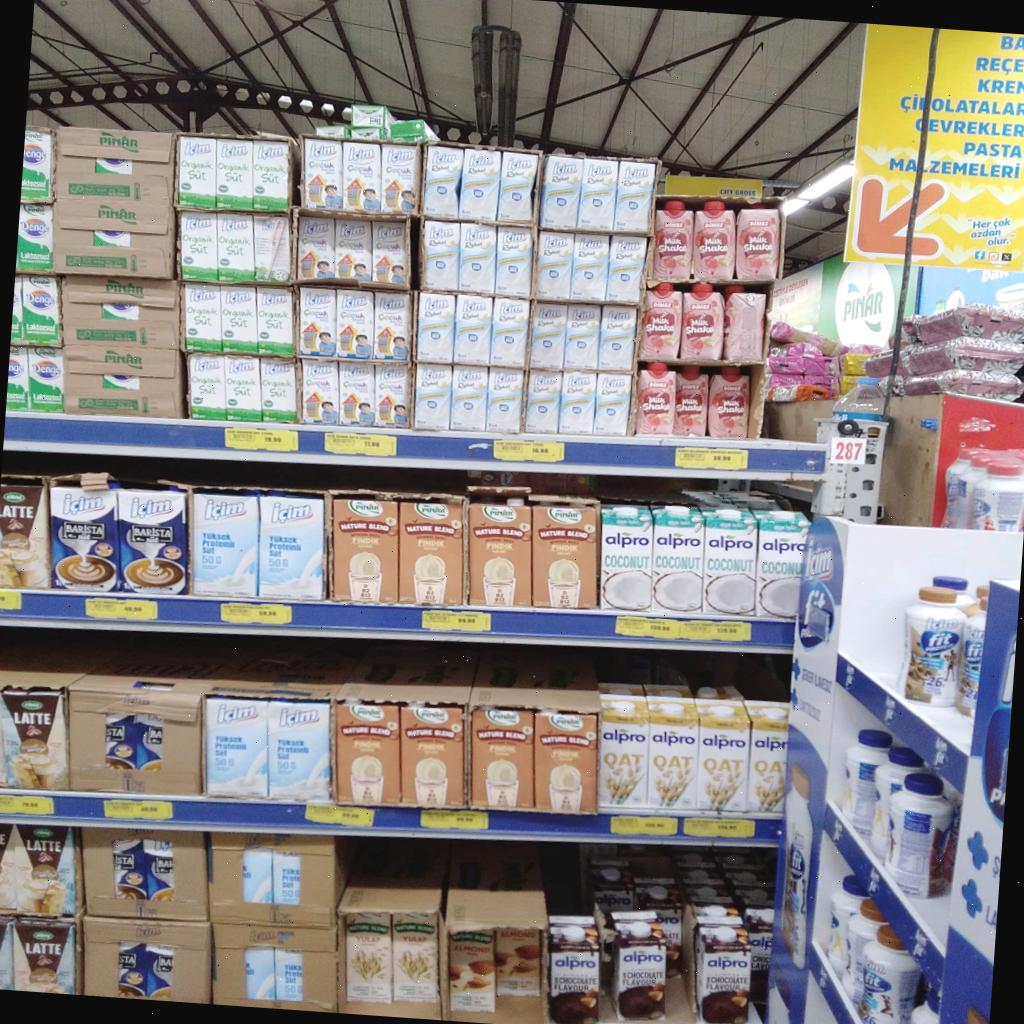price_tag: (616, 617, 752, 642), (324, 432, 397, 457), (225, 428, 298, 452), (675, 447, 749, 470), (85, 598, 158, 621), (305, 804, 374, 828), (494, 440, 564, 463), (220, 603, 293, 625), (679, 620, 752, 642), (421, 610, 491, 632), (683, 818, 756, 839), (616, 616, 680, 639), (103, 799, 173, 820), (420, 810, 489, 831), (610, 816, 678, 836), (0, 794, 54, 816), (258, 429, 298, 452), (224, 428, 257, 449), (0, 589, 21, 610)
product: (50, 480, 119, 590), (398, 495, 465, 606), (118, 488, 188, 594), (332, 494, 399, 602), (531, 500, 597, 609), (192, 491, 259, 597), (259, 494, 324, 600), (336, 700, 401, 805), (468, 501, 531, 606), (401, 705, 465, 807), (4, 825, 77, 914), (534, 711, 597, 814), (2, 690, 67, 789), (470, 708, 534, 808), (268, 700, 330, 802), (611, 911, 668, 1021), (598, 691, 650, 809), (696, 698, 750, 811), (206, 698, 268, 796), (755, 510, 810, 618), (694, 923, 751, 1024), (703, 510, 758, 614), (648, 695, 698, 809), (651, 506, 704, 612), (548, 916, 600, 1024), (0, 478, 51, 588), (600, 506, 653, 610), (11, 918, 76, 994), (744, 701, 788, 812), (344, 912, 392, 1003), (393, 912, 438, 1003), (449, 931, 495, 1012), (691, 200, 736, 281), (680, 283, 724, 361), (723, 285, 767, 361), (735, 208, 781, 280), (652, 200, 693, 280), (495, 928, 541, 998), (539, 156, 582, 230), (640, 282, 681, 359), (707, 368, 750, 438), (613, 161, 655, 231), (636, 361, 675, 435), (177, 137, 217, 209), (460, 149, 500, 220), (497, 153, 538, 222), (302, 138, 342, 208), (490, 297, 530, 367), (606, 235, 647, 303), (424, 147, 463, 218), (578, 159, 618, 228), (417, 291, 455, 363), (453, 294, 492, 364), (342, 141, 380, 212), (569, 233, 609, 300), (23, 276, 61, 345), (180, 211, 218, 280), (256, 287, 294, 356), (529, 302, 567, 370), (216, 140, 253, 209), (299, 287, 336, 356), (459, 223, 496, 292), (495, 227, 532, 296), (252, 142, 290, 209), (253, 215, 291, 282), (536, 232, 574, 299), (423, 221, 460, 289), (184, 285, 222, 351), (189, 354, 227, 420), (300, 361, 339, 425), (338, 290, 374, 359), (334, 218, 374, 280), (16, 205, 53, 272), (218, 214, 255, 281), (372, 293, 409, 360), (224, 356, 262, 421), (598, 305, 636, 370), (673, 366, 708, 436), (221, 287, 258, 353), (486, 368, 524, 432), (260, 358, 297, 423), (372, 220, 409, 285), (414, 364, 451, 429), (450, 366, 487, 431), (593, 373, 631, 436), (28, 347, 64, 413), (20, 129, 52, 203), (298, 215, 335, 279), (338, 362, 375, 426), (558, 371, 596, 433), (382, 145, 417, 210), (564, 304, 599, 369), (526, 372, 563, 431), (376, 365, 409, 427), (0, 823, 17, 910), (6, 350, 29, 410), (0, 915, 13, 990), (11, 276, 22, 344)
